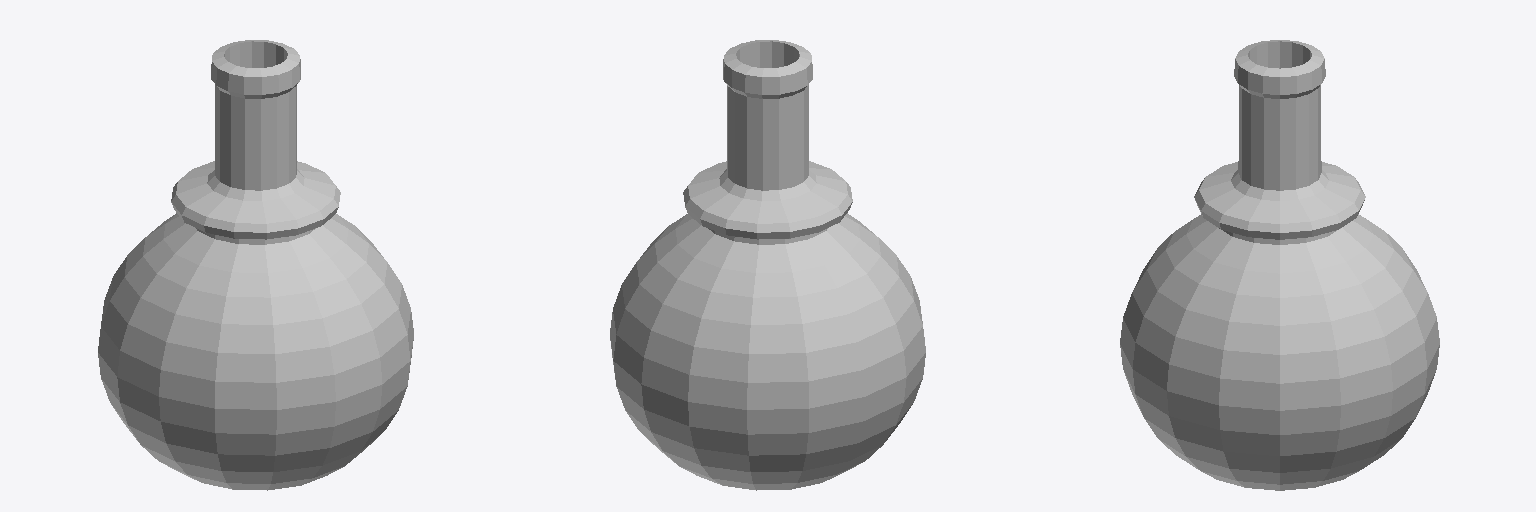
The model's file is empty_HighPoly.obj.
3 renders of one model, left to right at view 1: azimuth 30°, elevation 25°; view 2: azimuth 150°, elevation 25°; view 3: azimuth 270°, elevation 25°, orthographic.
Visible parts, largest first — view 1: empty_hq:polySurface3; view 2: empty_hq:polySurface3; view 3: empty_hq:polySurface3.
Part boxes in pixels (left/top/right/bottom): empty_hq:polySurface3: left=98, top=40, right=413, bottom=490; empty_hq:polySurface3: left=610, top=40, right=925, bottom=490; empty_hq:polySurface3: left=1120, top=40, right=1439, bottom=490.
Size of the model in its own units: 7.27 by 10.08 by 7.27.